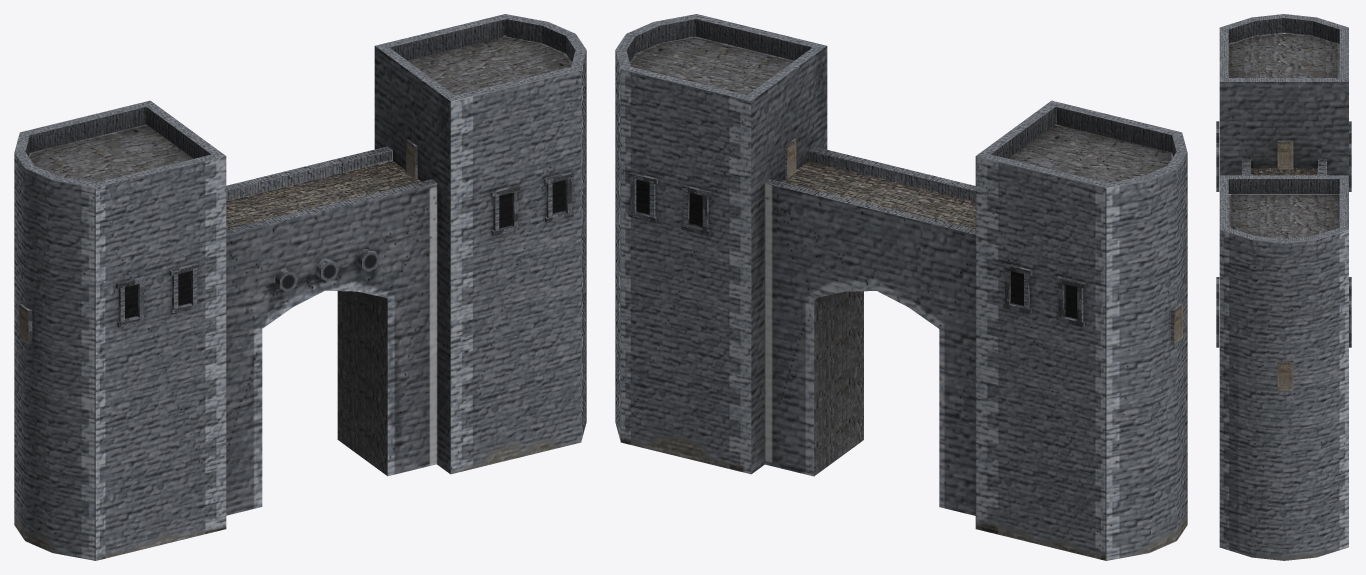
File: castle_gate.FBX
The picture shows the model from 3 angles, left to right: view 1: azimuth 30°, elevation 25°; view 2: azimuth 150°, elevation 25°; view 3: azimuth 270°, elevation 25°; orthographic projection. The views are drawn at different scales.
Parts seen in each view (by area): view 1: Box004; view 2: Box004; view 3: Box004.
Part boxes in pixels (x1,y1,x2,y2): Box004: [14, 14, 586, 560]; Box004: [615, 14, 1187, 560]; Box004: [1216, 14, 1351, 560].
Size of the model in its own units: 171 by 42.43 by 110.
